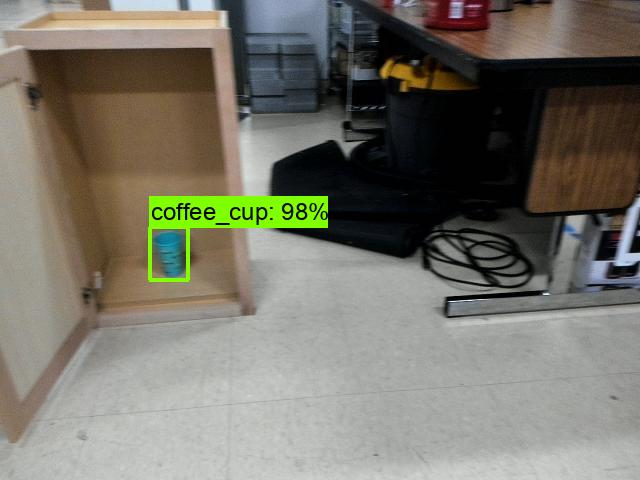coffee_cup: (151, 227, 186, 280)
